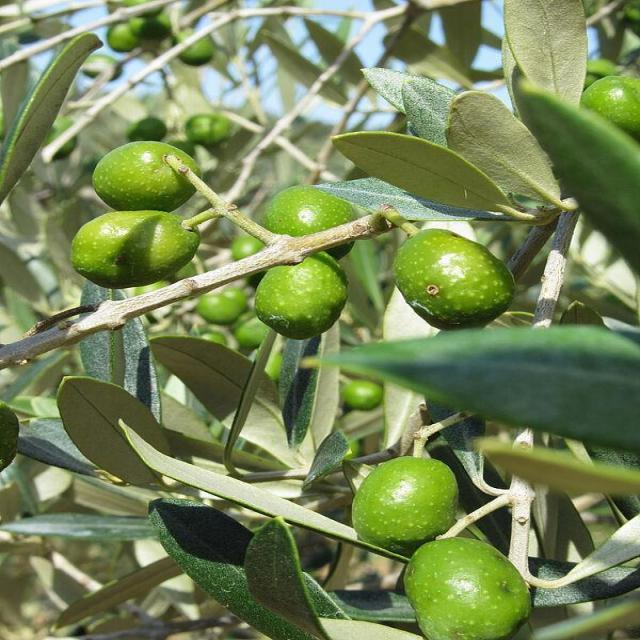Anthracnose: (405, 538, 530, 640), (394, 228, 514, 329)
